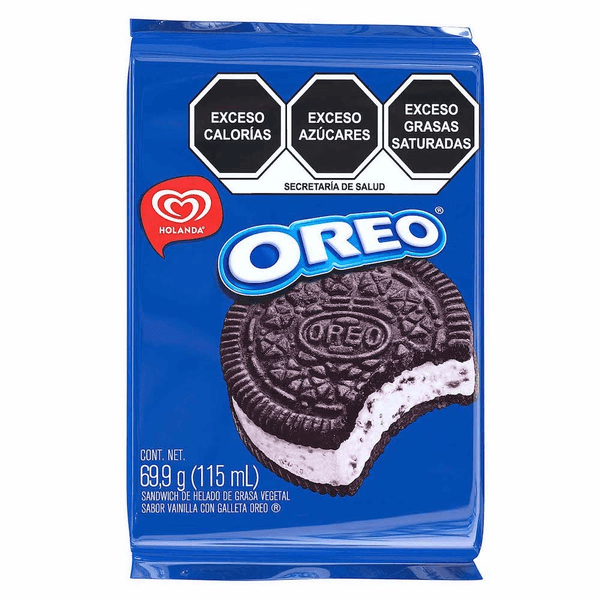Oreo Mordizco: (121, 11, 490, 592)
